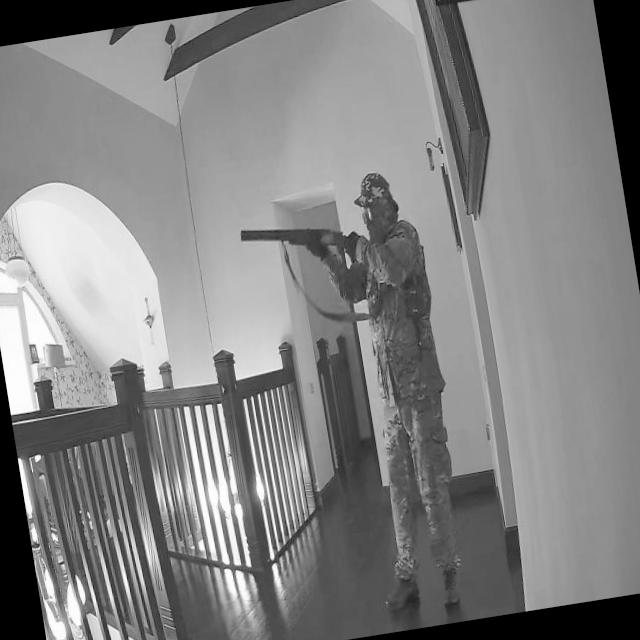gun: (236, 210, 352, 265)
person with a gun: (224, 162, 480, 634)
